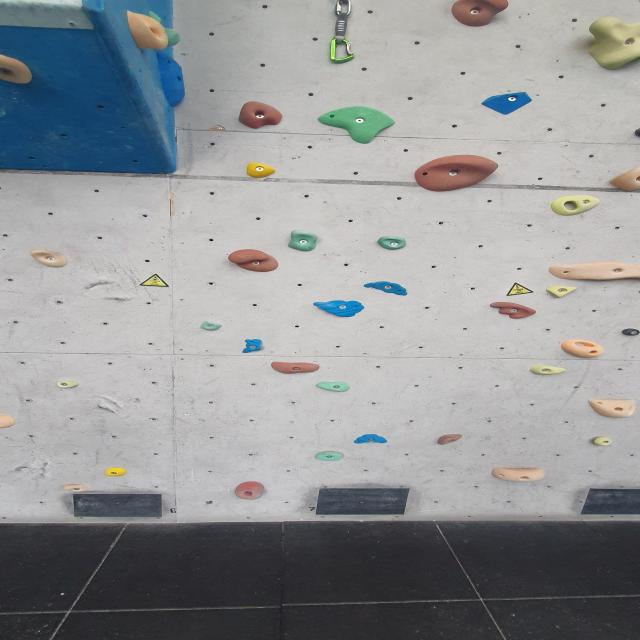Crimp: (314, 102, 404, 146), (311, 302, 367, 318), (489, 302, 538, 320), (269, 360, 321, 373), (363, 282, 408, 295), (245, 163, 280, 179), (349, 431, 386, 445), (311, 380, 354, 392), (432, 433, 464, 445), (200, 320, 222, 333), (243, 341, 263, 354), (56, 380, 82, 389), (103, 467, 127, 476)
Jug: (574, 16, 640, 72), (124, 9, 184, 52), (543, 262, 640, 282), (448, 0, 510, 28), (225, 248, 284, 274), (237, 102, 286, 127), (0, 55, 35, 87), (282, 229, 323, 251), (491, 466, 548, 481), (28, 248, 70, 268), (231, 480, 270, 501), (526, 363, 570, 376), (376, 235, 409, 251), (310, 450, 349, 463), (62, 482, 90, 493)
Pocket: (584, 397, 640, 420), (548, 195, 602, 218), (558, 338, 610, 360)
Sloper: (410, 154, 505, 194)
